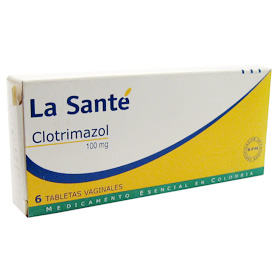LaSante: (25, 75, 266, 214)
